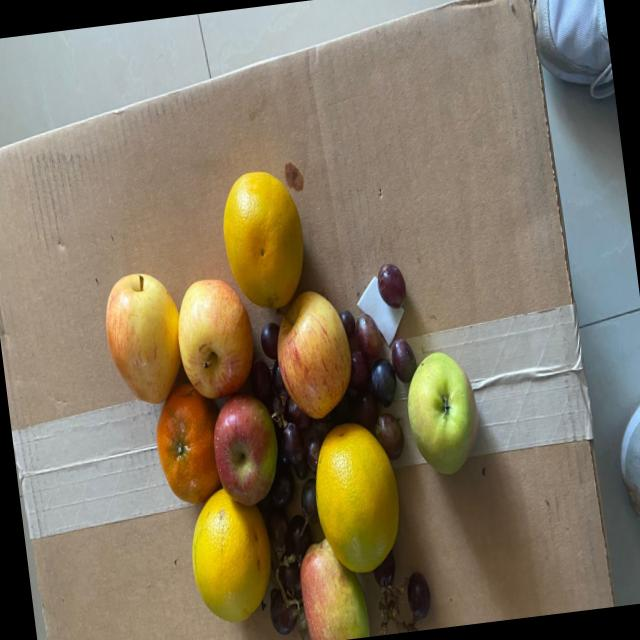hoja: (354, 272, 412, 344)
